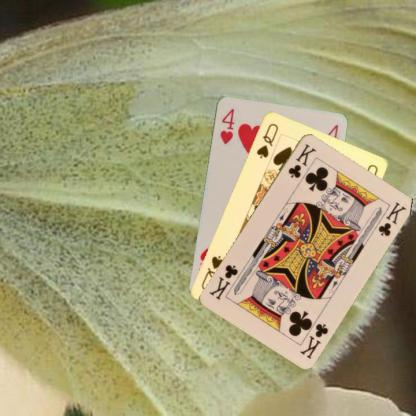4h: (217, 105, 236, 146)
Kc: (297, 320, 330, 360), (286, 141, 318, 179)
Qs: (254, 120, 280, 160)
